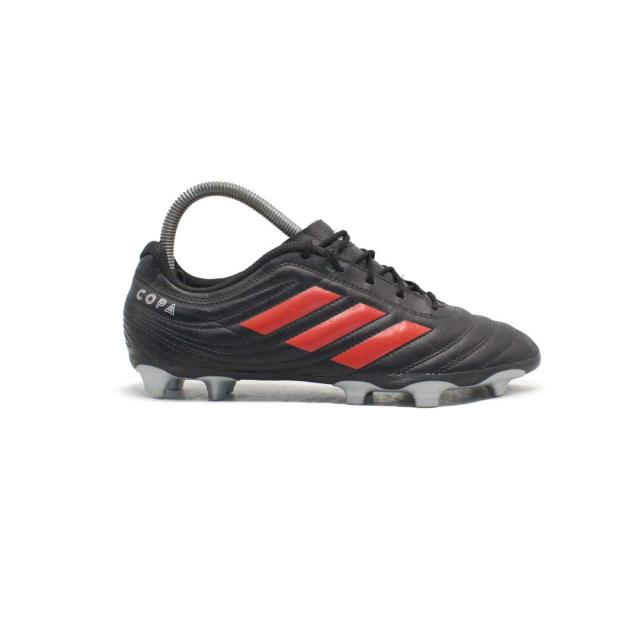heel: (126, 246, 177, 352)
midsole: (132, 349, 539, 408)
uppersole: (155, 218, 535, 371)
